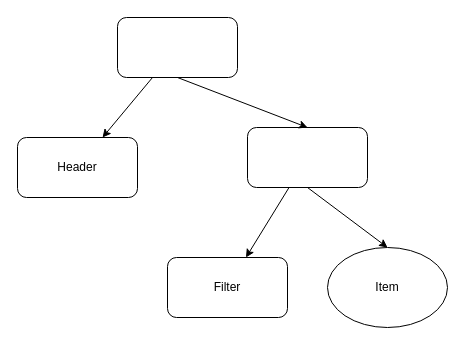
This 465x345 diagram has some shape labels left out. The shapes that lost their labels are listed below. From the top down, each one's centre as x and y in pixels, then its label:
At pixel 177 47: "App".
At pixel 307 157: "ShoppingList".
